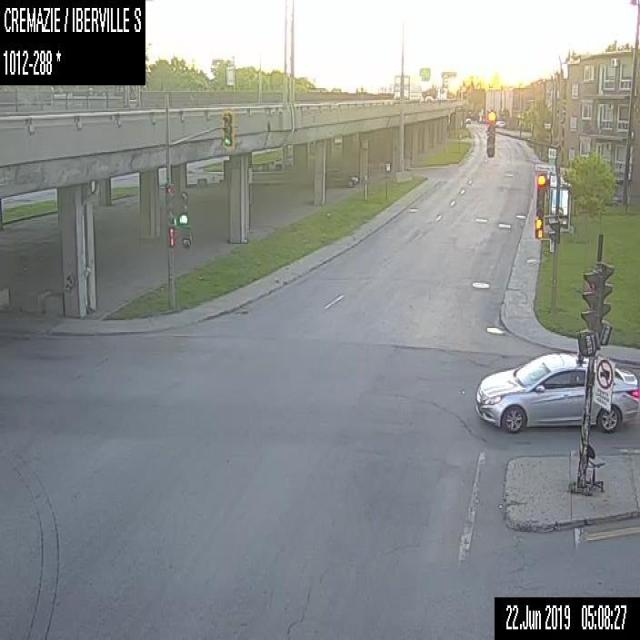vehicle: (475, 351, 639, 433), (312, 167, 358, 187), (494, 119, 505, 128), (464, 116, 470, 123)
